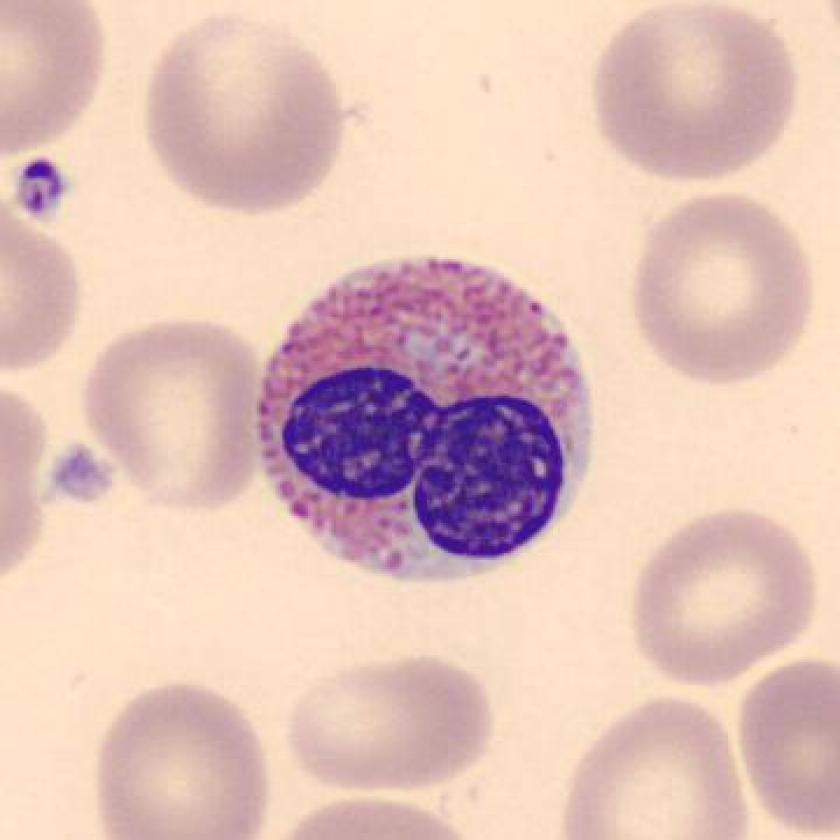eosinophil: (244, 242, 608, 593)
